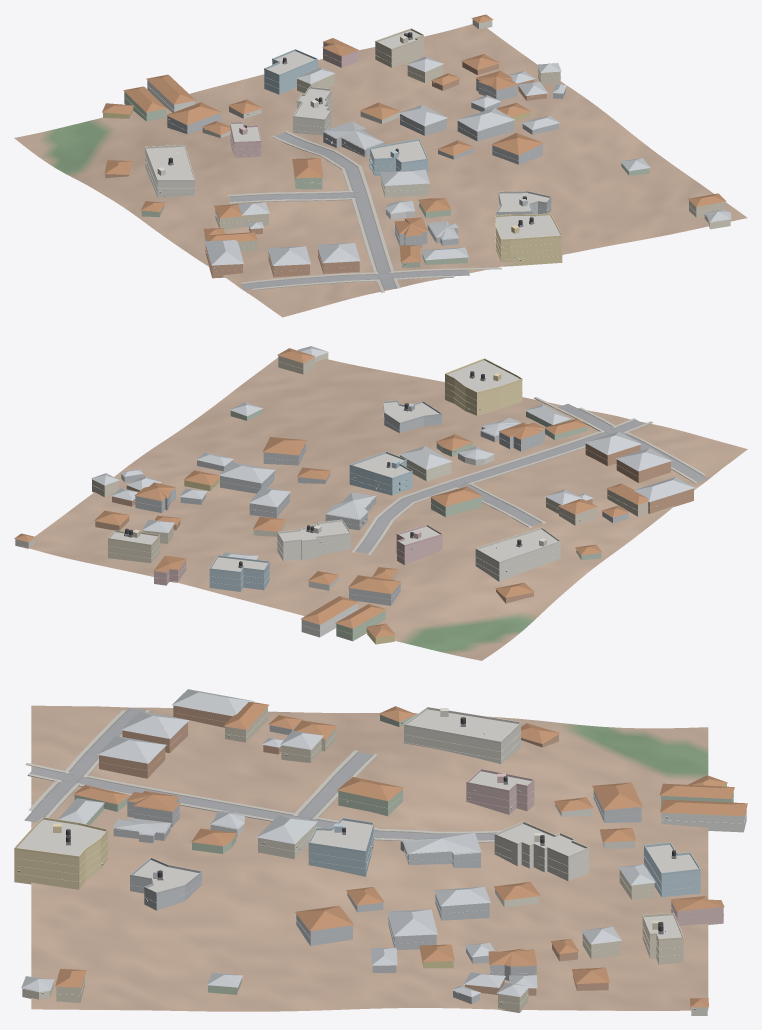
3 renders of one model, top to bottom at view 1: azimuth 30°, elevation 25°; view 2: azimuth 150°, elevation 25°; view 3: azimuth 270°, elevation 25°, orthographic. The views are drawn at different scales.
Visible parts, largest first — view 1: Terrain-col, Buildings-col, Details, Roads-col, Sidewalks-col; view 2: Terrain-col, Buildings-col, Details, Roads-col, Sidewalks-col; view 3: Terrain-col, Buildings-col, Details, Roads-col, Sidewalks-col.
Boxes of the visible parts, x1=… form: Terrain-col: x1=14, y1=24, x2=747, y2=317; Buildings-col: x1=102, y1=14, x2=731, y2=278; Details: x1=124, y1=28, x2=725, y2=272; Roads-col: x1=230, y1=132, x2=469, y2=289; Sidewalks-col: x1=227, y1=130, x2=501, y2=292; Terrain-col: x1=21, y1=357, x2=747, y2=660; Buildings-col: x1=14, y1=346, x2=694, y2=644; Details: x1=92, y1=358, x2=693, y2=634; Roads-col: x1=356, y1=404, x2=707, y2=553; Sidewalks-col: x1=352, y1=397, x2=705, y2=554; Terrain-col: x1=31, y1=705, x2=708, y2=1011; Buildings-col: x1=14, y1=689, x2=747, y2=1015; Details: x1=14, y1=707, x2=746, y2=1009; Roads-col: x1=24, y1=707, x2=496, y2=840; Sidewalks-col: x1=25, y1=710, x2=501, y2=842.
Size of the model in its own units: 265 by 23.43 by 277.
